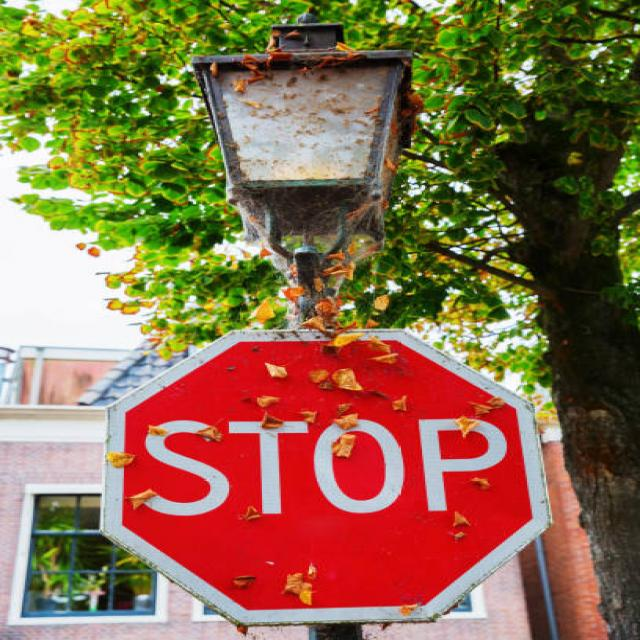stop: (95, 316, 548, 630)
